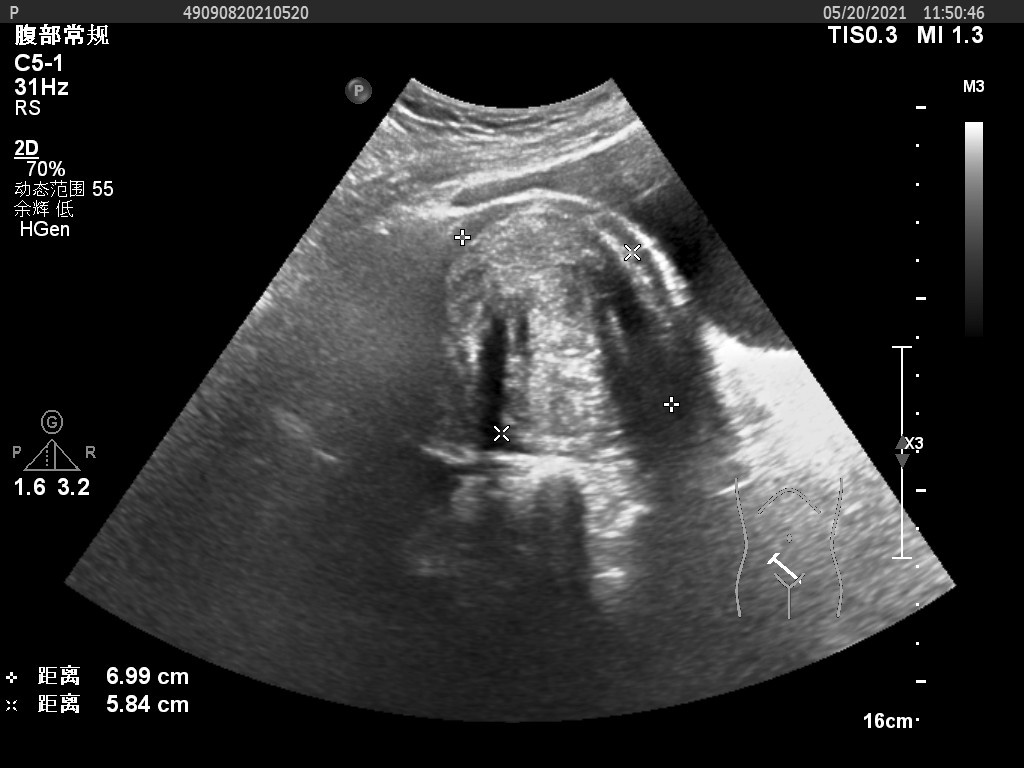肌瘤: (457, 227, 673, 452)
